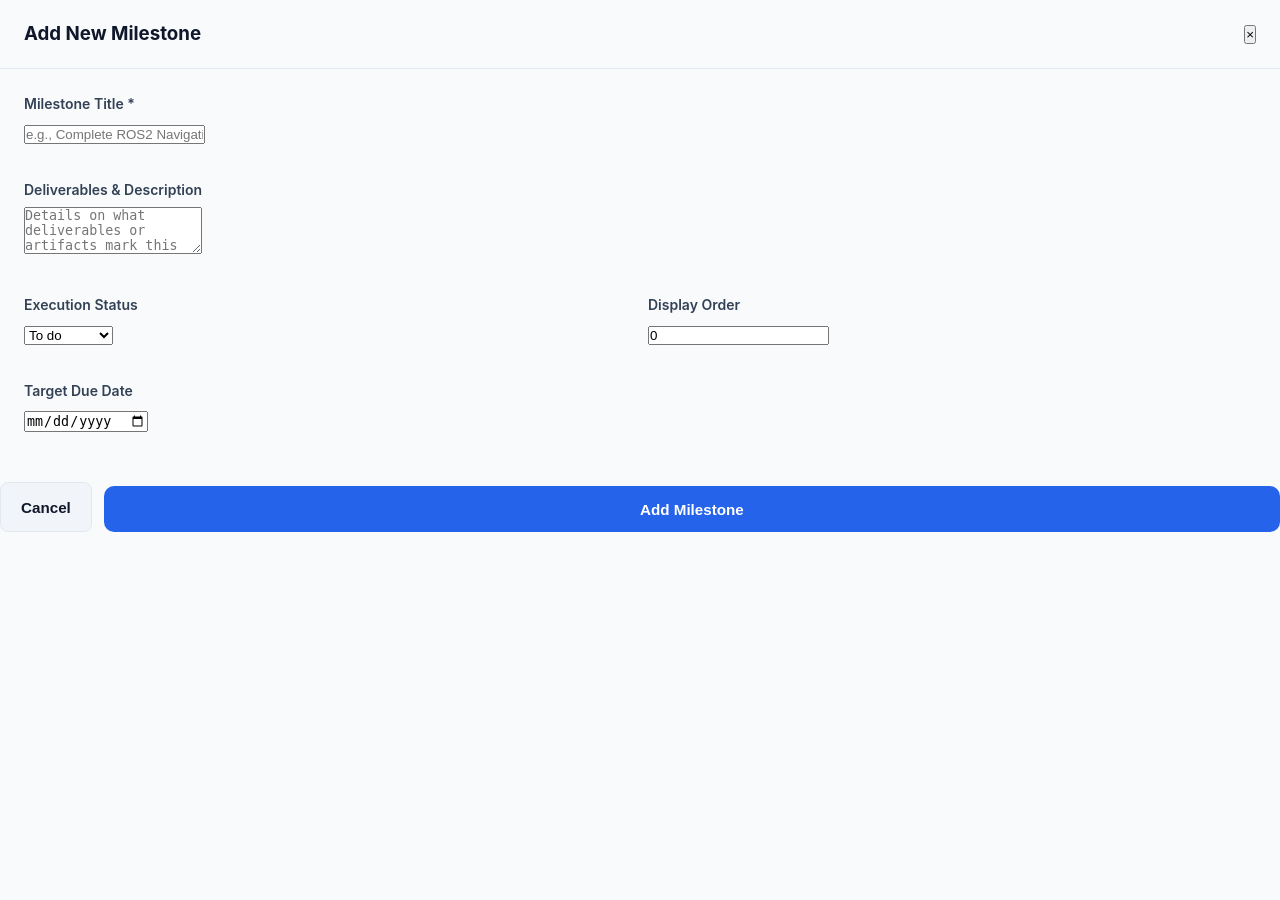
Test: ProjectMilestoneModal Component › displays API error when submission fails
Type "Valid Milestone Title" into the field labelled "Milestone Title *" at (114, 135), box [24, 125, 205, 144]
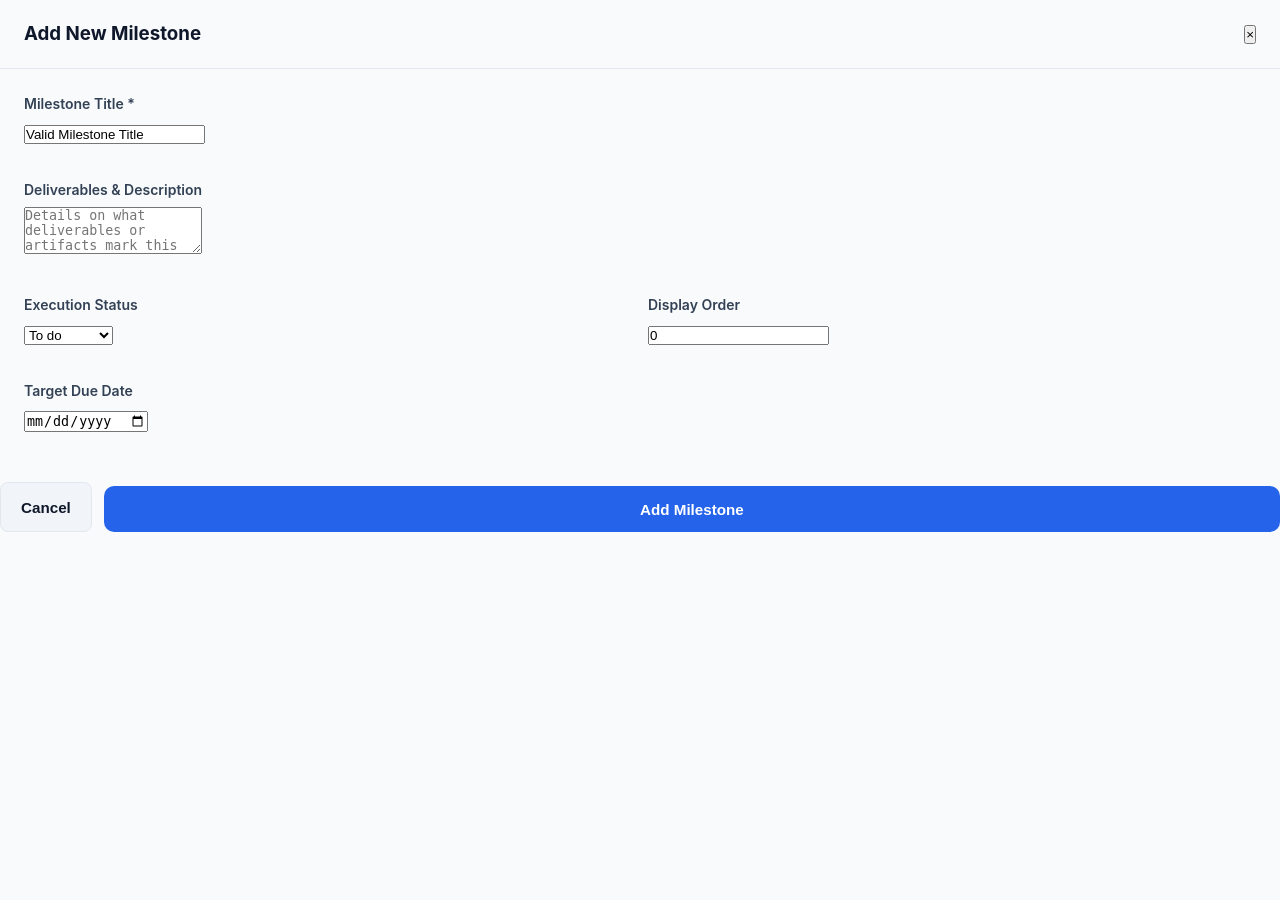
Click the button "Add Milestone" at (692, 509), box [104, 486, 1279, 532]
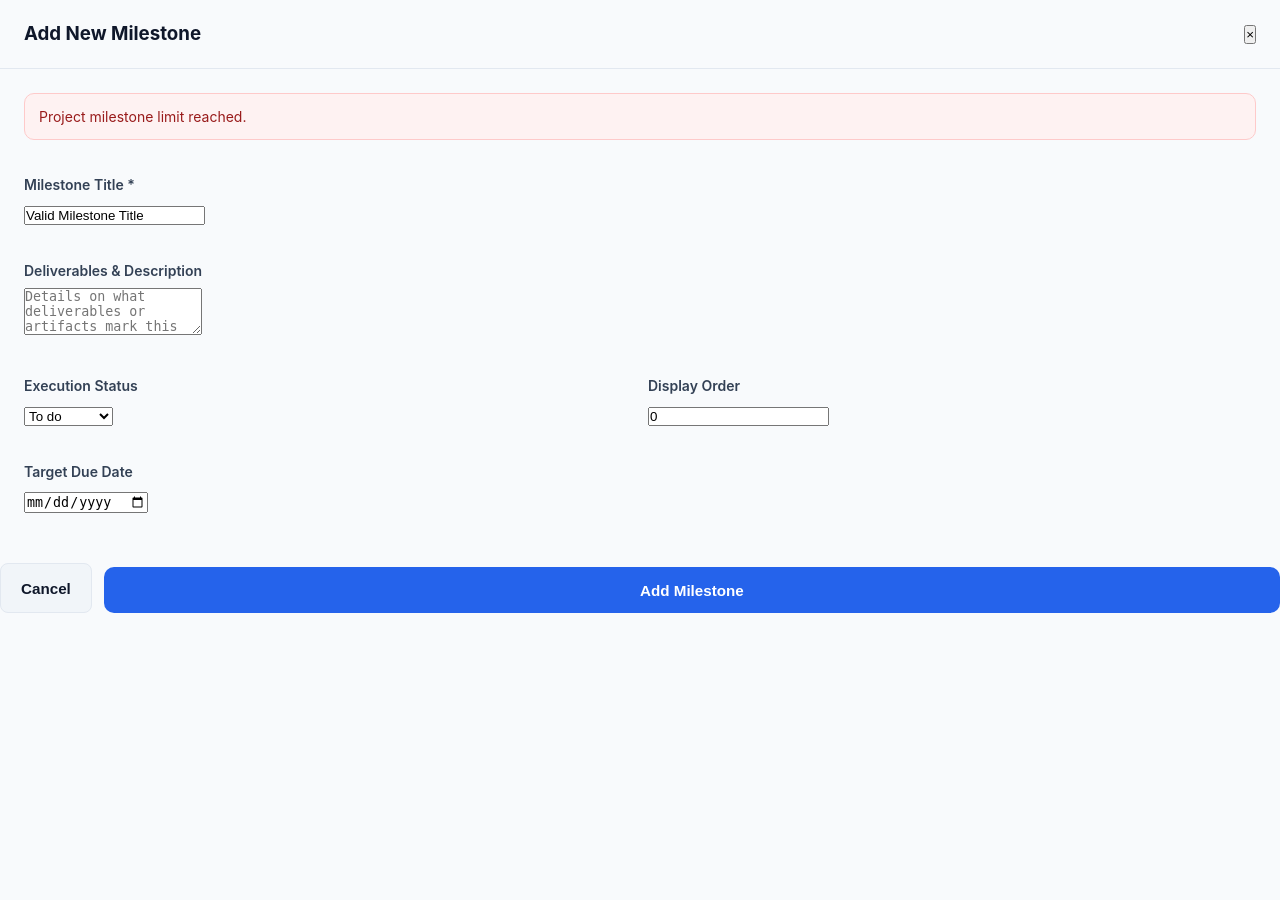
Expected: the message reads "Project milestone limit reached.", [39, 108, 246, 125]
